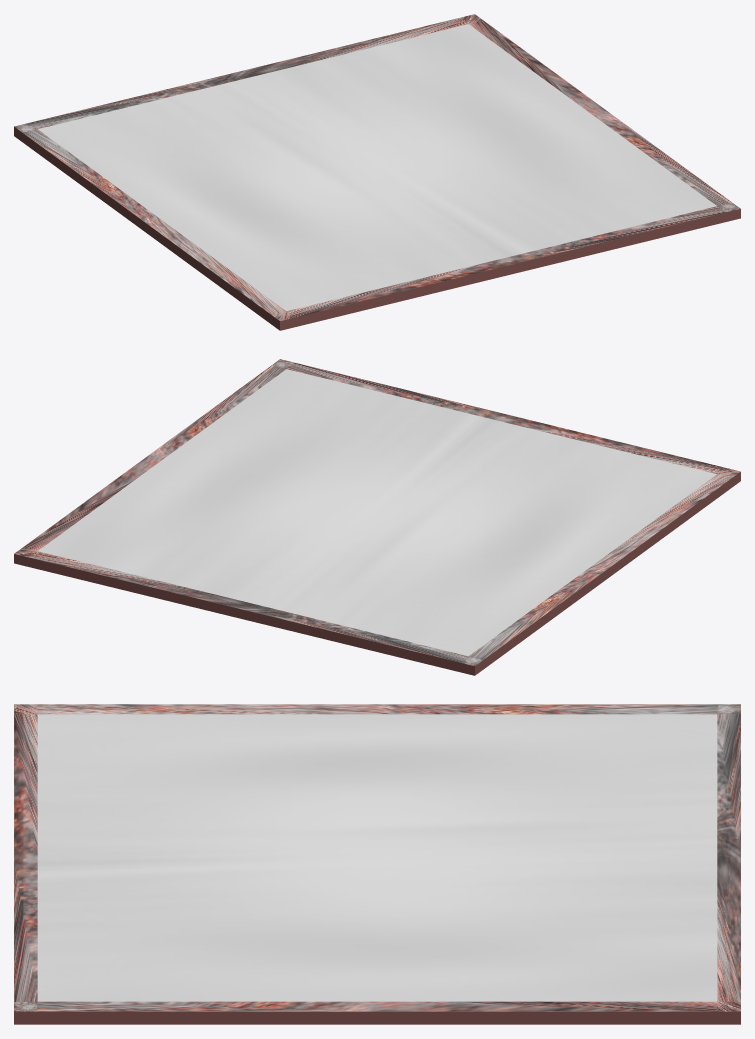
Rendered from bigwindow2x2_wtf.obj.
3 renders of one model, top to bottom at view 1: azimuth 30°, elevation 25°; view 2: azimuth 150°, elevation 25°; view 3: azimuth 270°, elevation 25°, orthographic. The views are drawn at different scales.
Parts seen in each view (by area): view 1: group2, group3; view 2: group2, group3; view 3: group2, group3.
Boxes of the visible parts, box(x1,y1,x2,y2) form: group2: box(38, 24, 716, 311); group3: box(14, 14, 740, 330); group2: box(38, 369, 716, 656); group3: box(14, 359, 740, 675); group2: box(37, 714, 717, 1001); group3: box(14, 704, 740, 1024).
Size of the model in its own units: 660 by 13.13 by 660.
